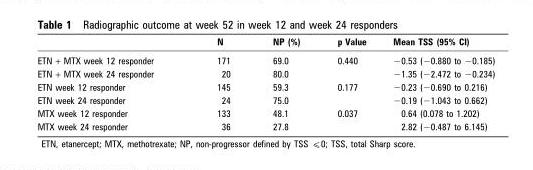table: (36, 36, 494, 131)
table column: (36, 36, 184, 131), (378, 36, 494, 131), (250, 36, 318, 131), (184, 36, 250, 131), (318, 36, 378, 131)
table column header: (36, 36, 494, 50)
table row: (36, 50, 494, 66), (36, 36, 494, 50), (36, 66, 494, 80), (36, 80, 494, 93), (36, 93, 494, 106), (36, 106, 494, 119), (36, 119, 494, 131)
table spanning cell: (318, 50, 378, 80), (318, 80, 378, 106), (318, 106, 378, 131)
